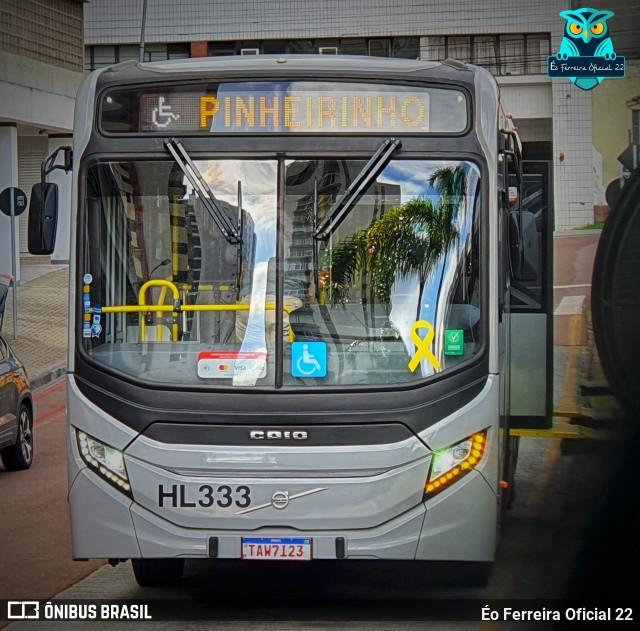PINHEIRINHO: (192, 92, 432, 134)
